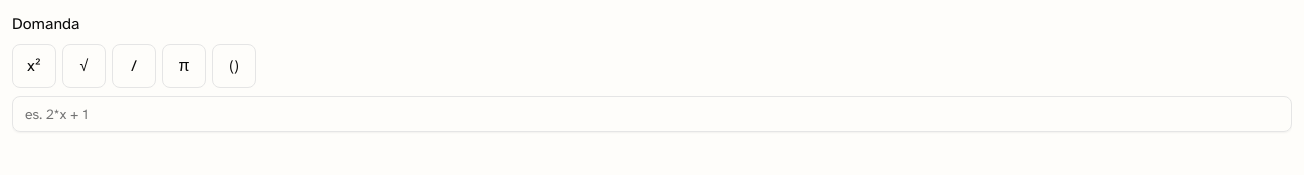
Test case: InputEspressione: tastiera di simboli › il tasto di una funzione lascia il cursore dentro le parentesi
Click the button named "Radice quadrata" at (84, 66), box [62, 44, 106, 88]
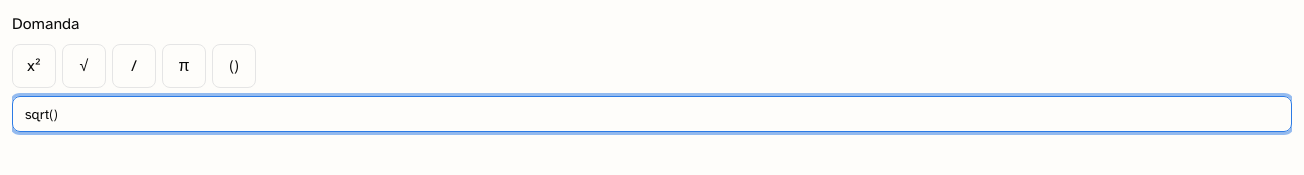
Expected: the field holds "sqrt()"
// Vedi sopra: `skipClick` per non perdere il cursore lasciato dal tasto.
Type "4" into the field at (652, 114), box [12, 96, 1292, 132]
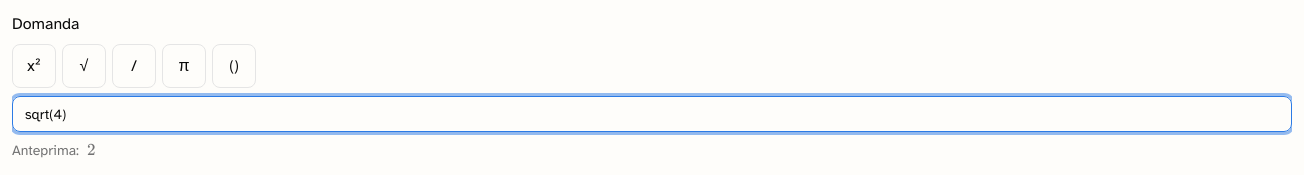
Expected: the field holds "sqrt(4)", [12, 96, 1292, 132]
